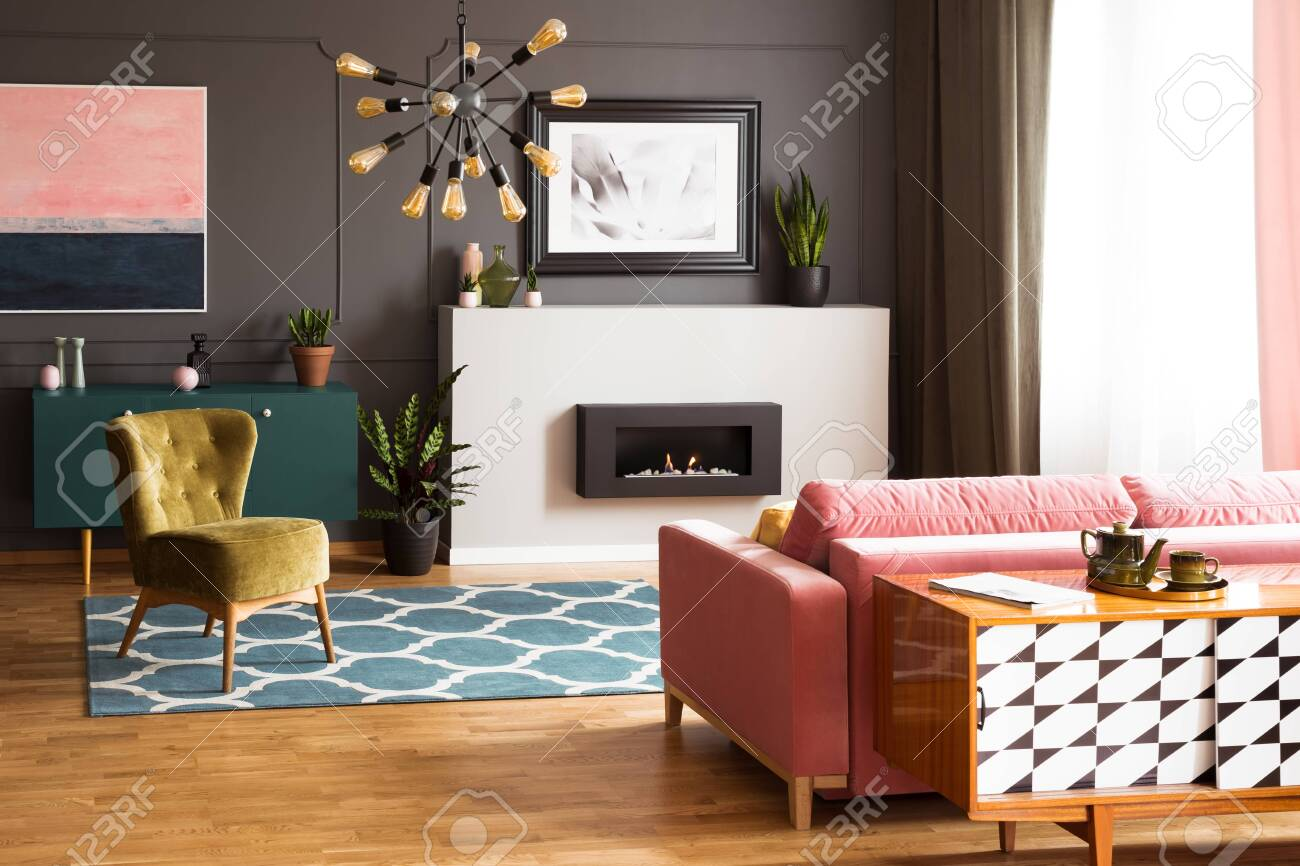coklat: (288, 346, 336, 386)
hijau: (30, 388, 361, 524), (480, 246, 521, 306)
hitam: (379, 521, 444, 575), (776, 264, 828, 304)
pink: (645, 489, 843, 784), (811, 481, 1300, 563), (173, 365, 199, 390), (37, 368, 62, 389)
